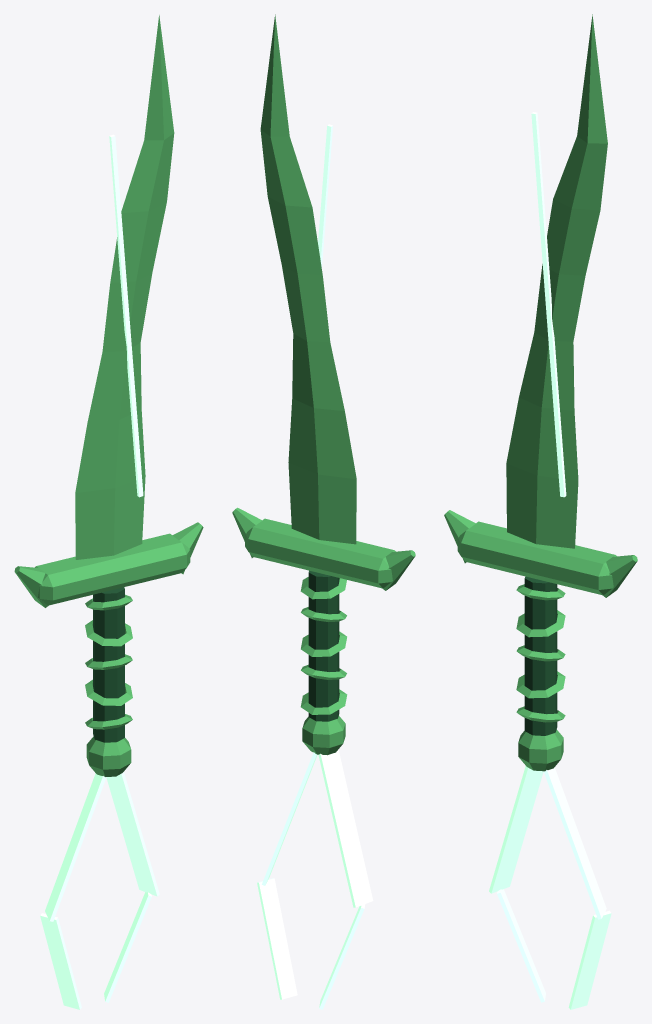
File: weapon_sword_gale_v01.glb
3 views of the same model, side by side, from view 1: azimuth 30°, elevation 25°; view 2: azimuth 150°, elevation 25°; view 3: azimuth 330°, elevation 25° (orthographic). The views are drawn at different scales.
Parts seen in each view (by area): view 1: weapon_sword_gale; view 2: weapon_sword_gale; view 3: weapon_sword_gale.
Part boxes in pixels (<box>): weapon_sword_gale: <box>14,15,203,1009</box>; weapon_sword_gale: <box>232,14,415,1009</box>; weapon_sword_gale: <box>444,14,637,1009</box>.
Bounding box in the file's own units: 0.2235 × 1.13 × 0.075.
